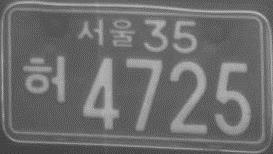2: (168, 60, 212, 136)
3: (142, 17, 168, 53)
4: (79, 56, 120, 131)
5: (214, 59, 253, 135), (171, 19, 198, 55)
7: (124, 55, 164, 134)
서울_O: (78, 16, 137, 48)
허: (21, 53, 69, 105)
